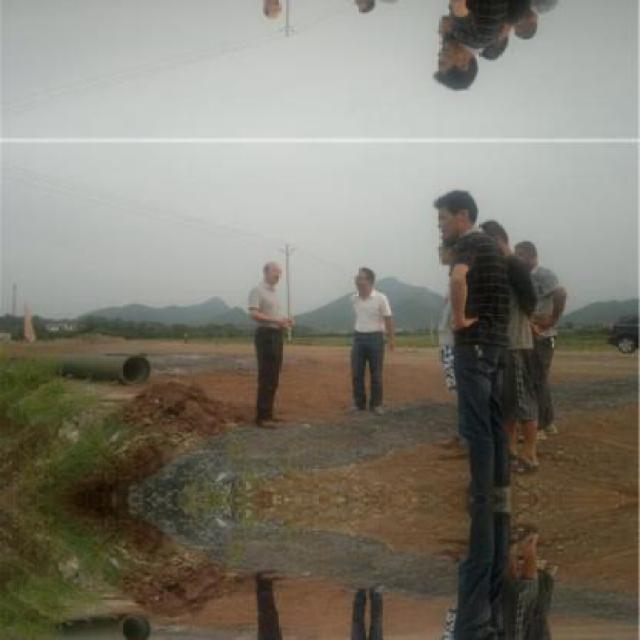sin casco: (418, 186, 497, 252), (224, 257, 299, 298), (355, 259, 386, 298)
